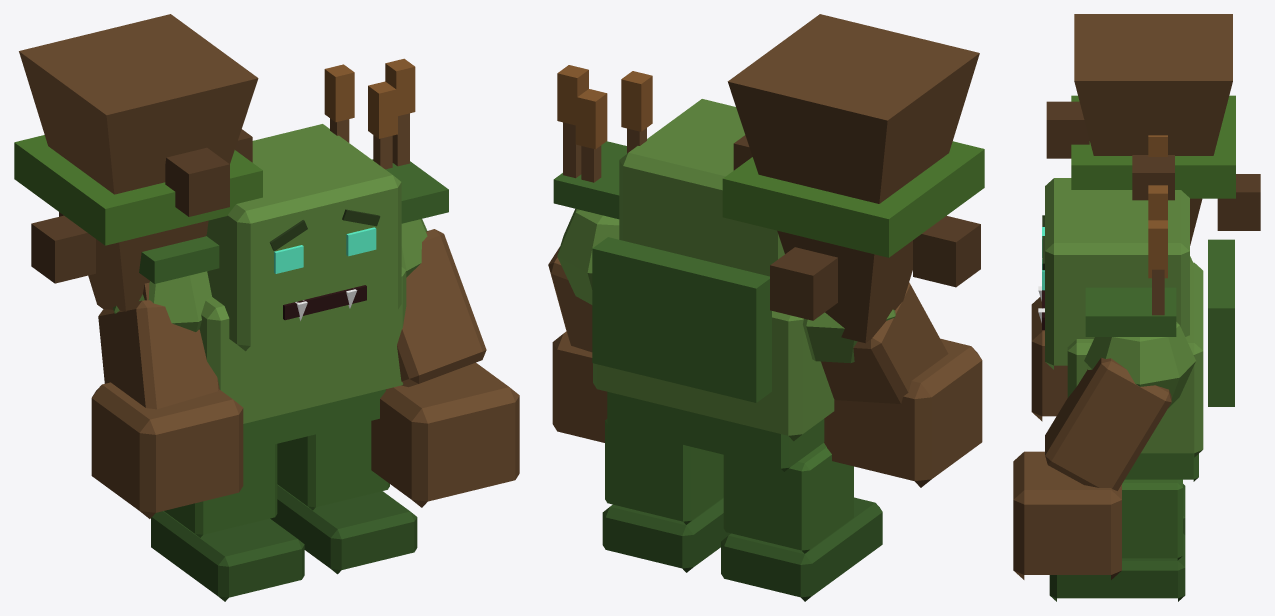
The model's file is r6_mini_bog_brute.glb.
3 views of the same model, side by side, from view 1: azimuth 30°, elevation 25°; view 2: azimuth 150°, elevation 25°; view 3: azimuth 270°, elevation 25° (orthographic). The views are drawn at different scales.
Parts seen in each view (by area): view 1: r6_mini_bog_brute_mesh; view 2: r6_mini_bog_brute_mesh; view 3: r6_mini_bog_brute_mesh.
Part boxes in pixels (x1,y1,x2,y2): r6_mini_bog_brute_mesh: [14, 14, 519, 601]; r6_mini_bog_brute_mesh: [548, 14, 984, 601]; r6_mini_bog_brute_mesh: [1013, 14, 1260, 601].
Size of the model in its own units: 3.58 by 4.2 by 2.05.
Materials: 1 (1 with a texture image).
